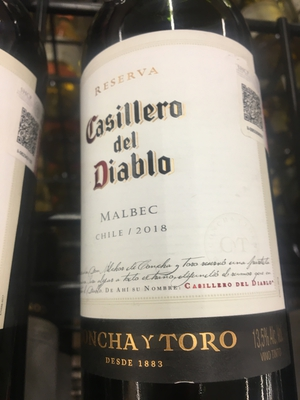casillero del diablo malbec: (58, 8, 300, 395)
